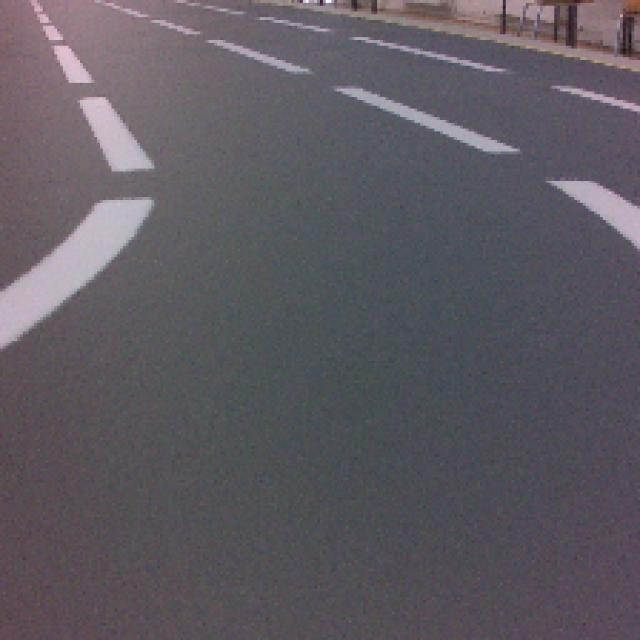Road: (3, 410, 640, 635)
